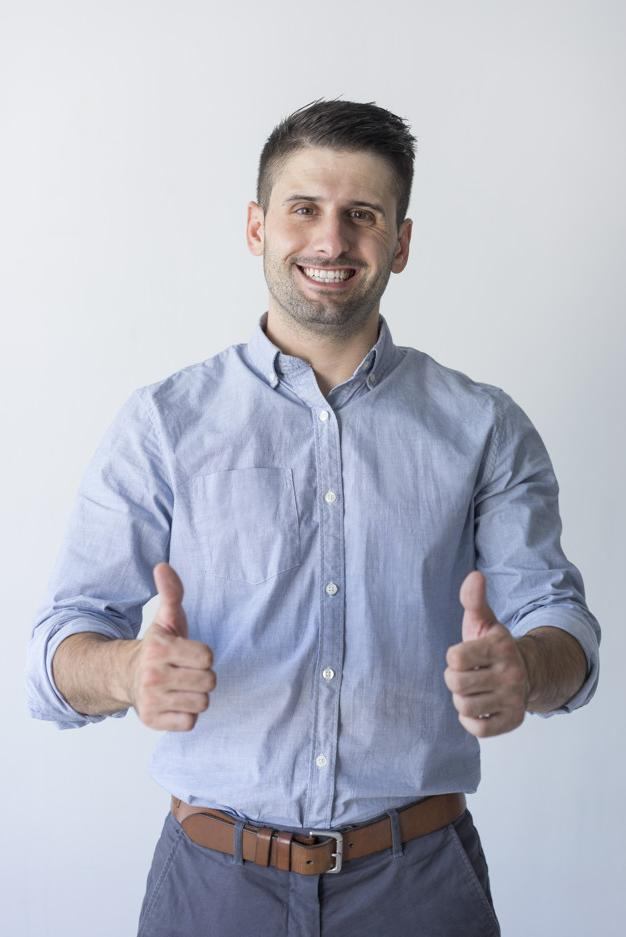thumbsup: (444, 570, 530, 738), (136, 562, 217, 732)
